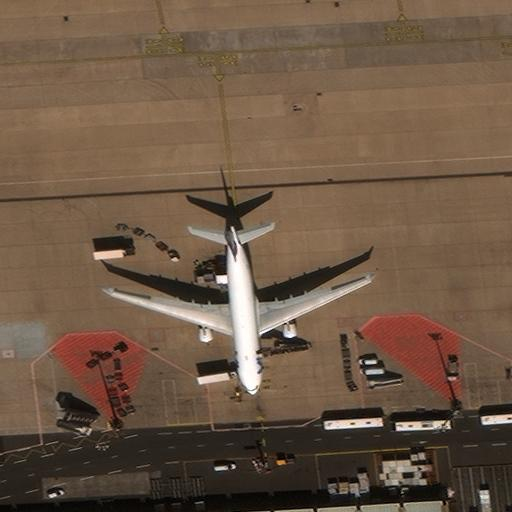Large Civil Transport: (109, 226, 373, 394)
